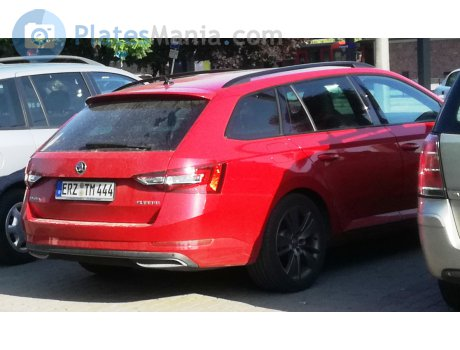License Plates: (59, 177, 113, 193)
